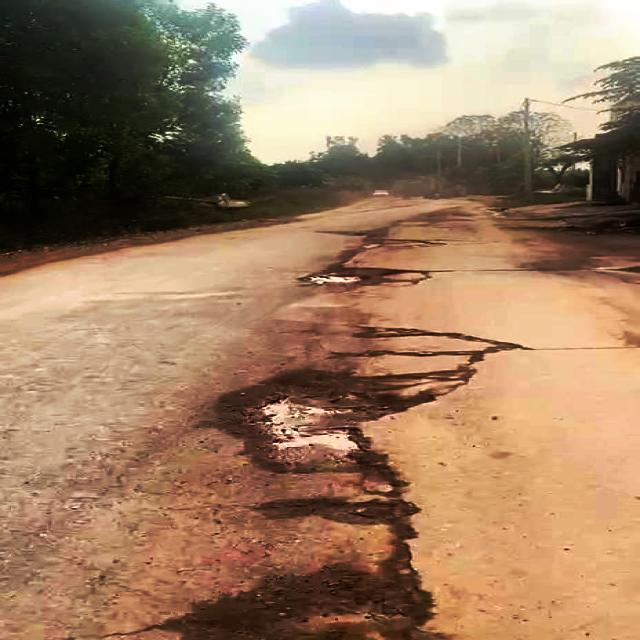pothole: (203, 360, 462, 473), (174, 566, 440, 640), (248, 496, 417, 534), (302, 263, 429, 290)
